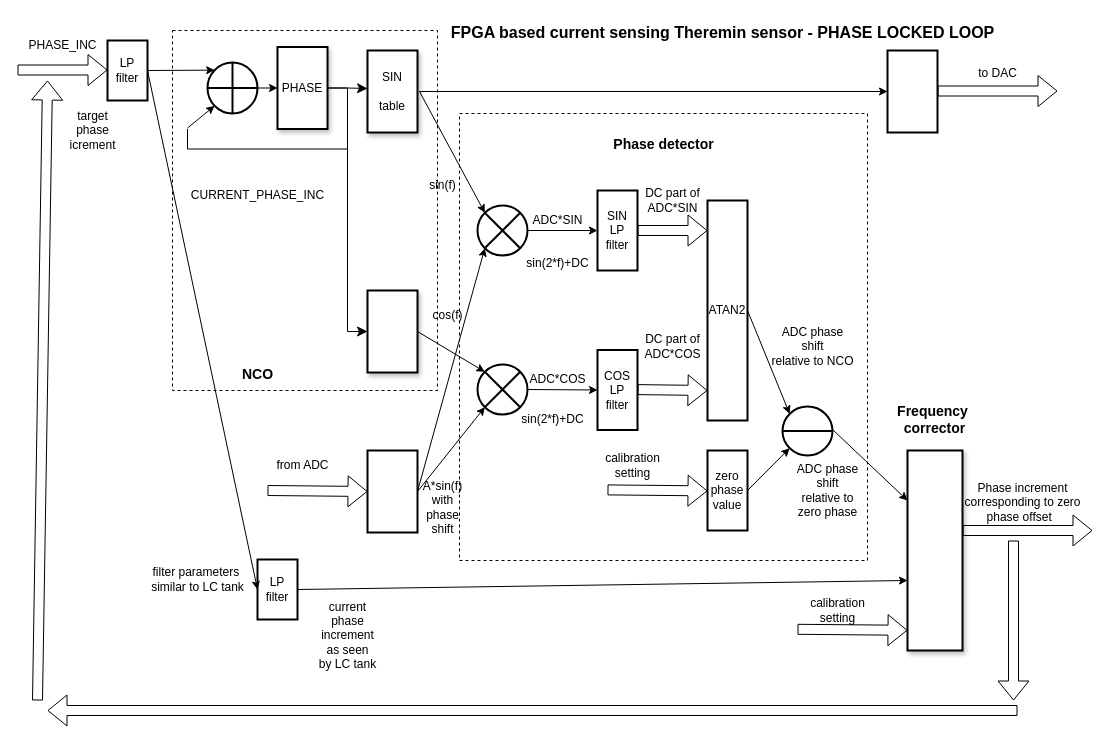
Some shapes in this 1109 by 744 pixel diagram are drawn without their labels. The centre of each missing label's shape, as x and y in pixels:
"ADC sample" belongs at [392,491].
"COS table" belongs at [393,332].
"DAC sample" belongs at [912,91].
"frequency correction" belongs at [935,551].
